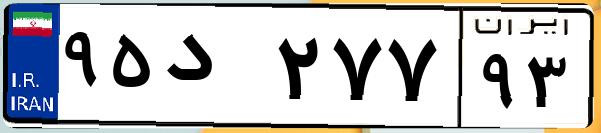2: (270, 28, 330, 110)
3: (525, 38, 570, 115)
5: (110, 28, 158, 98)
7: (385, 28, 445, 110), (330, 28, 385, 110)
9: (57, 26, 110, 100), (475, 38, 525, 113)
د: (158, 20, 270, 120)
